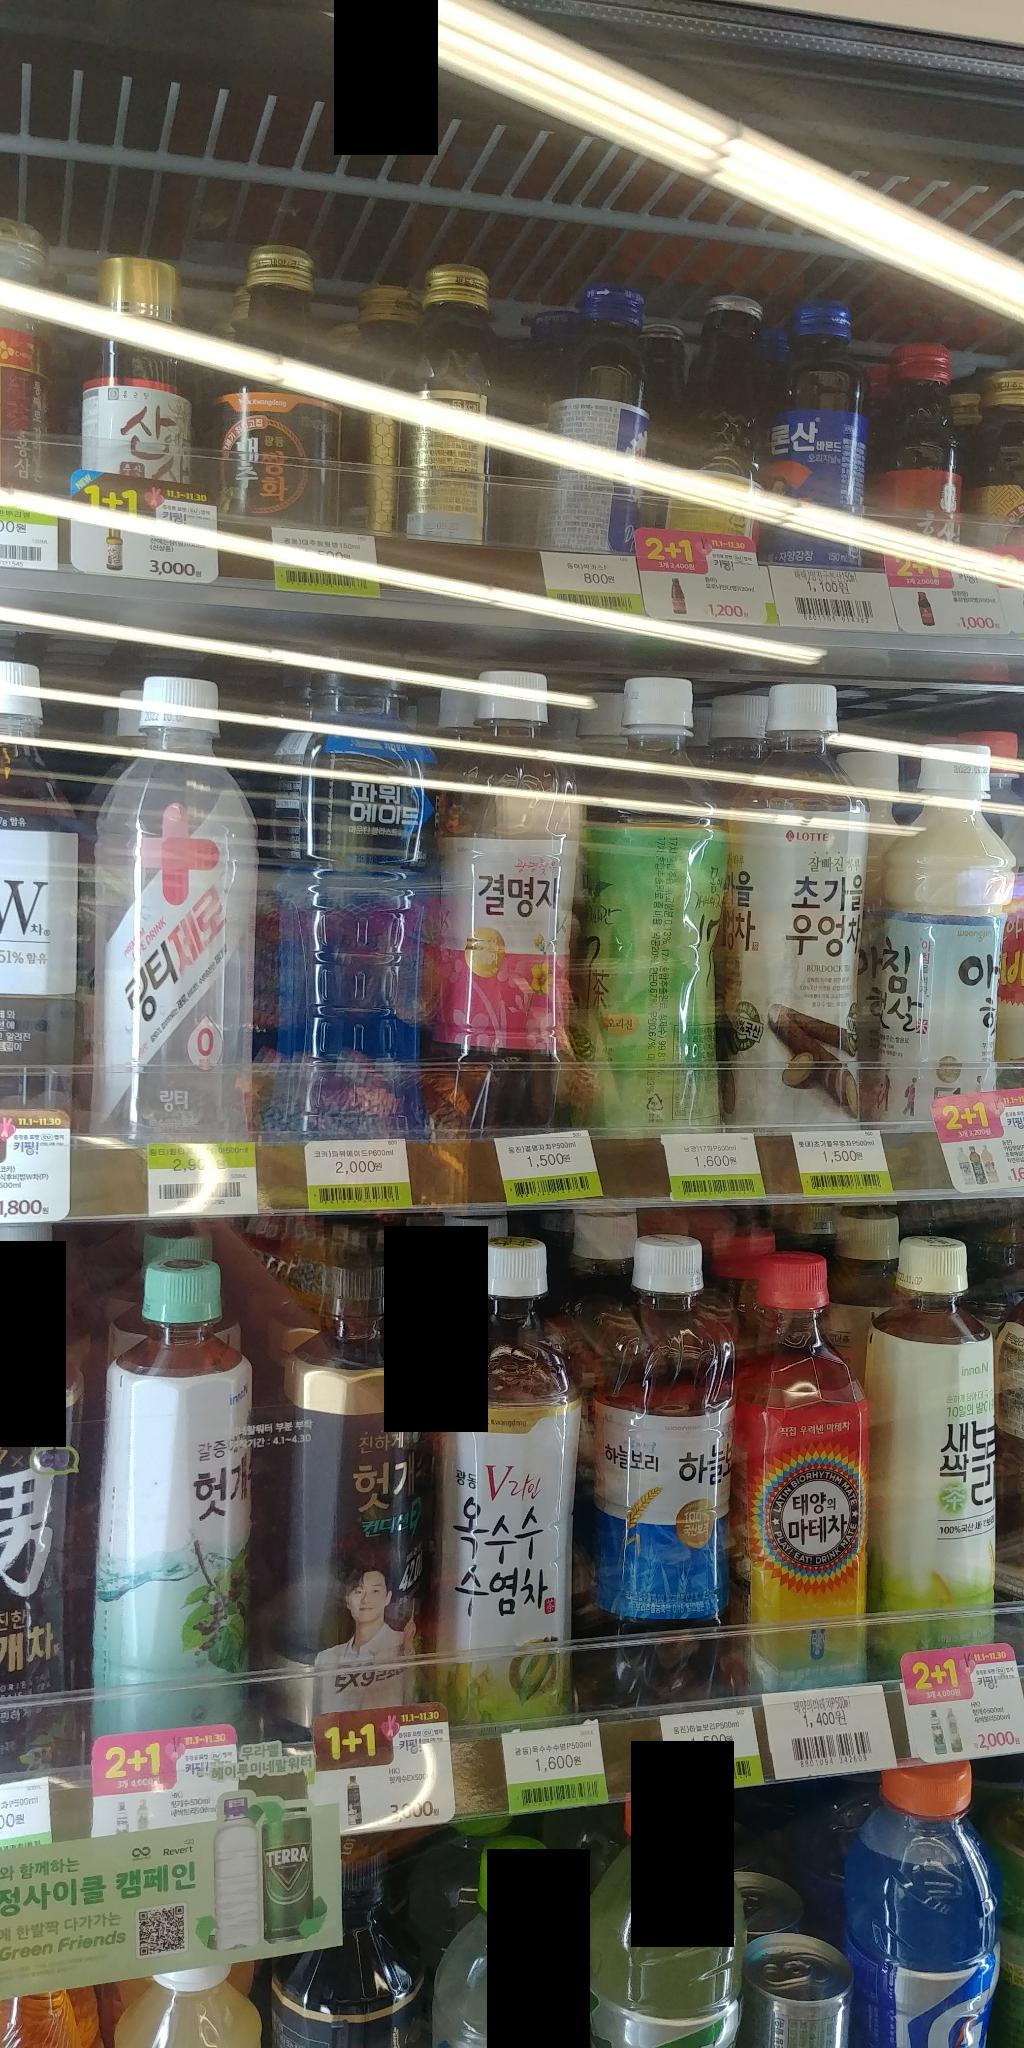haneulbori: (586, 1216, 746, 1718)
oksususuyeomcha: (406, 1219, 588, 1731)
powerade_mountainblast: (274, 652, 440, 1164)
